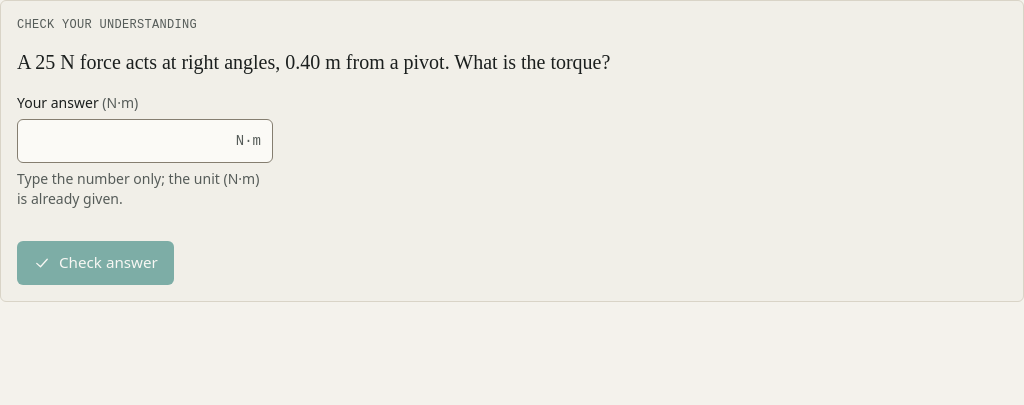
Test: PracticeItem › gives a second try, then shows the answer; can be tried again
In the field labelled "Your answer (N·m)": (145, 140) [17,118,273,162], type "12"
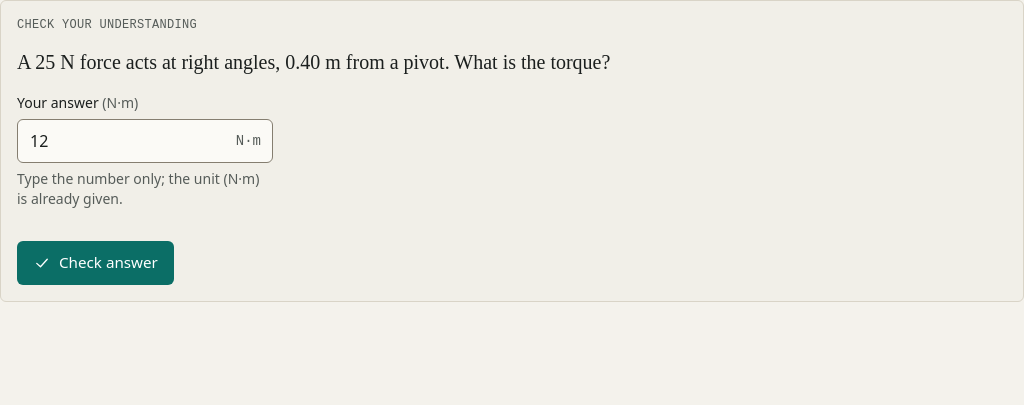
Click the button "Check answer": (95, 262) [17,240,174,284]
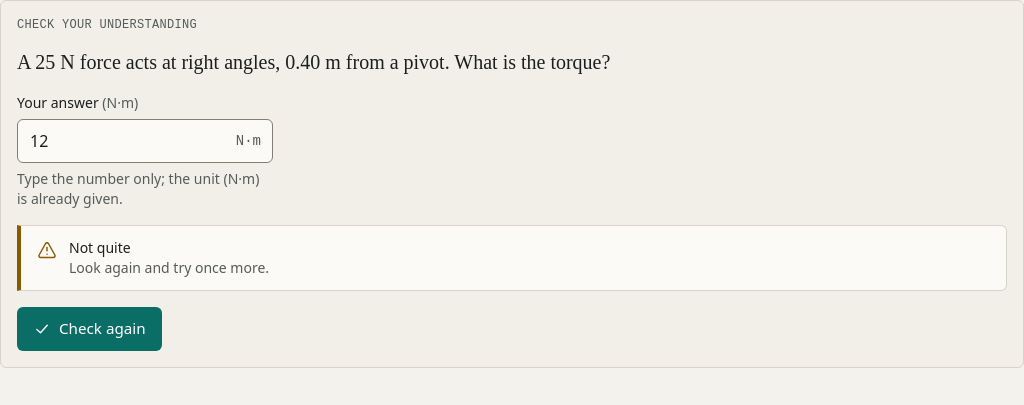
Expected: the text "τ = r F = 10 N·m." is not shown
Now the text "Not quite" is shown, box [69,238,131,256]
Click the button "Check again": (89, 328) [17,306,162,350]
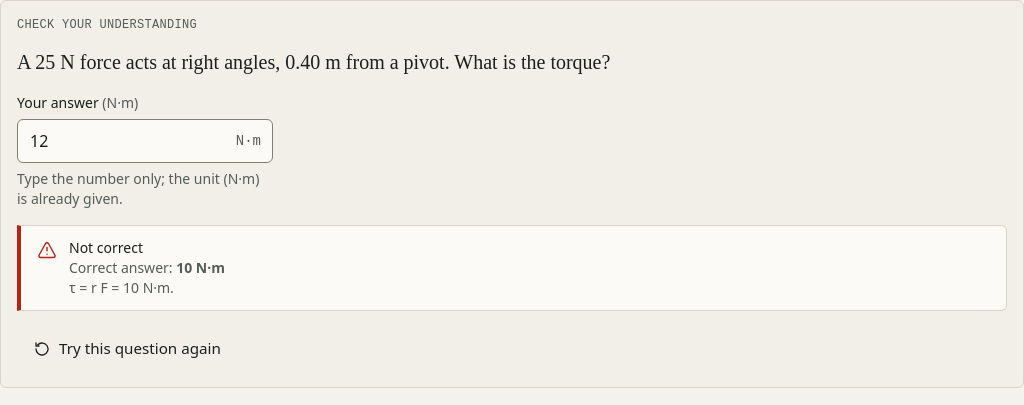
Expected: the field labelled "Your answer (N·m)" is disabled, [17,118,273,162]
Now the text "Not correct" is shown, box [69,238,143,256]
Now the text "τ = r F = 10 N·m." is shown, box [69,278,174,296]
Click the button "Try this question again": (127, 348) [17,326,237,370]
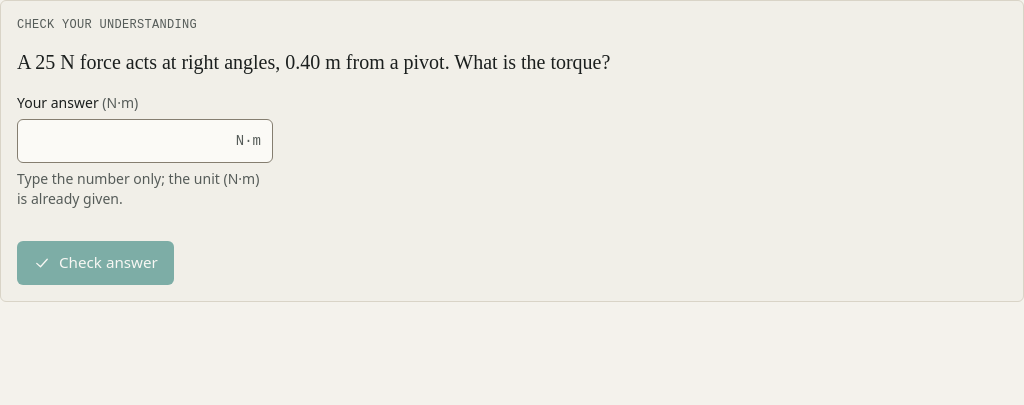
In the field labelled "Your answer (N·m)": (145, 140) [17,118,273,162], type "10"
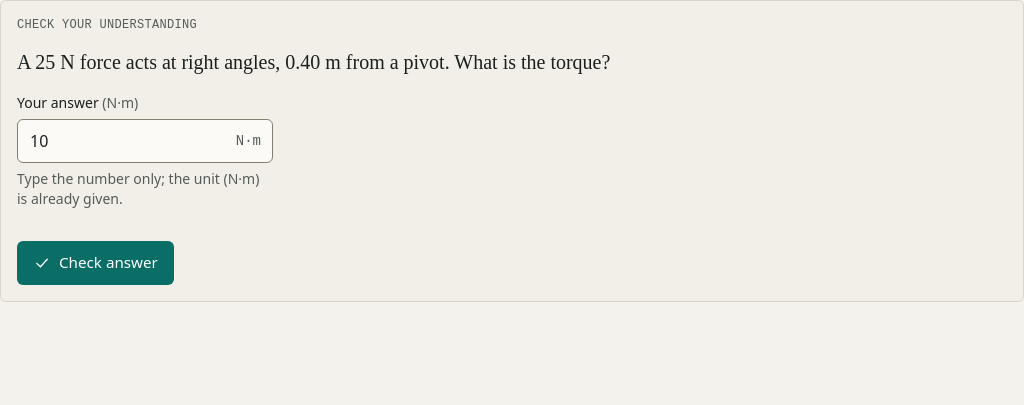
Click the button "Check answer": (95, 262) [17,240,174,284]
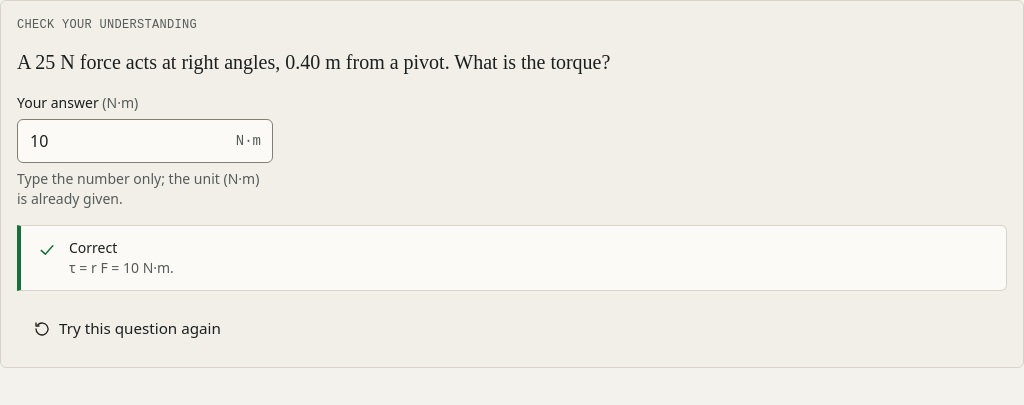
Now the text "Correct" is shown, box [69,238,117,256]
